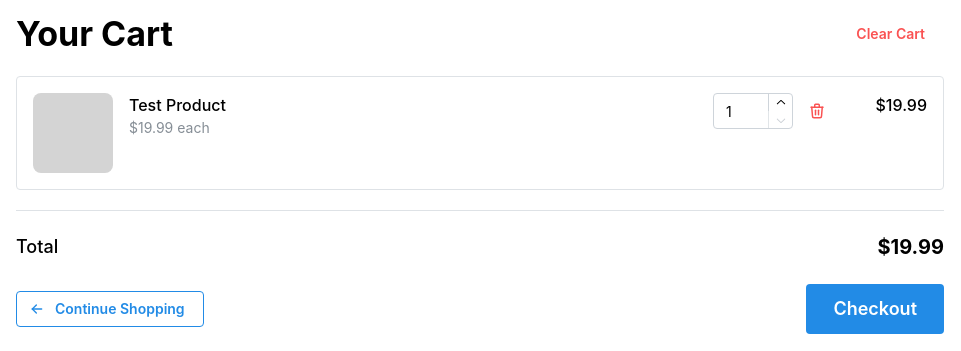
Test case: Cart Page › clears cart when Clear Cart is clicked
The width and height of the screenshot is (961, 351).
Expected: the text "Test Product" is shown, [129,95,226,115]
Click the button "Clear Cart" at x=891, y=34, box [837,16,944,52]
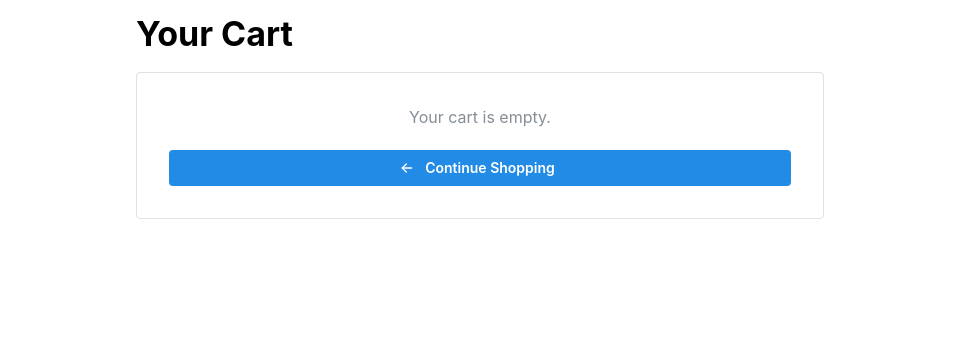
Result: the text "Your cart is empty." is shown at [409,107,551,127]
